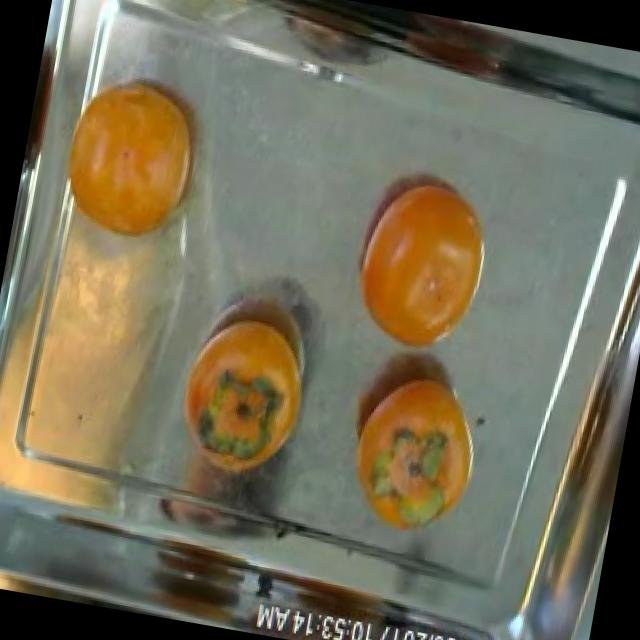Fruit: (46, 42, 226, 270), (336, 144, 513, 370), (324, 347, 504, 558), (157, 294, 330, 488)
